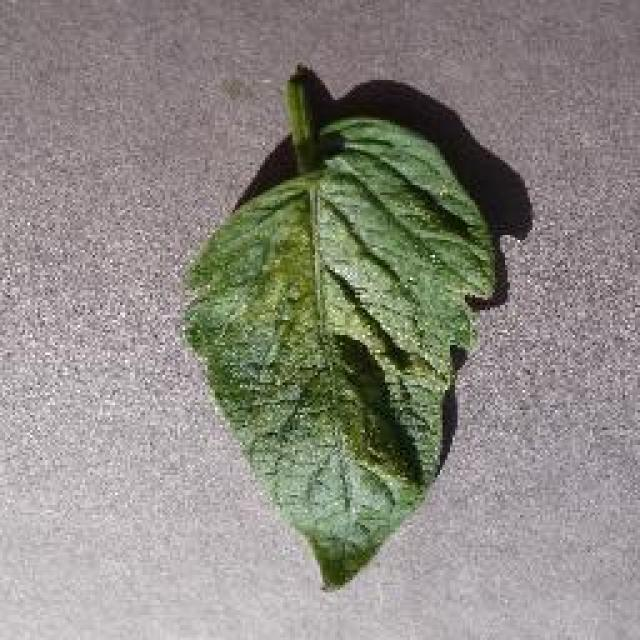Tomato___Spider_mites Two-spotted_spider_mite: (185, 70, 495, 585)
